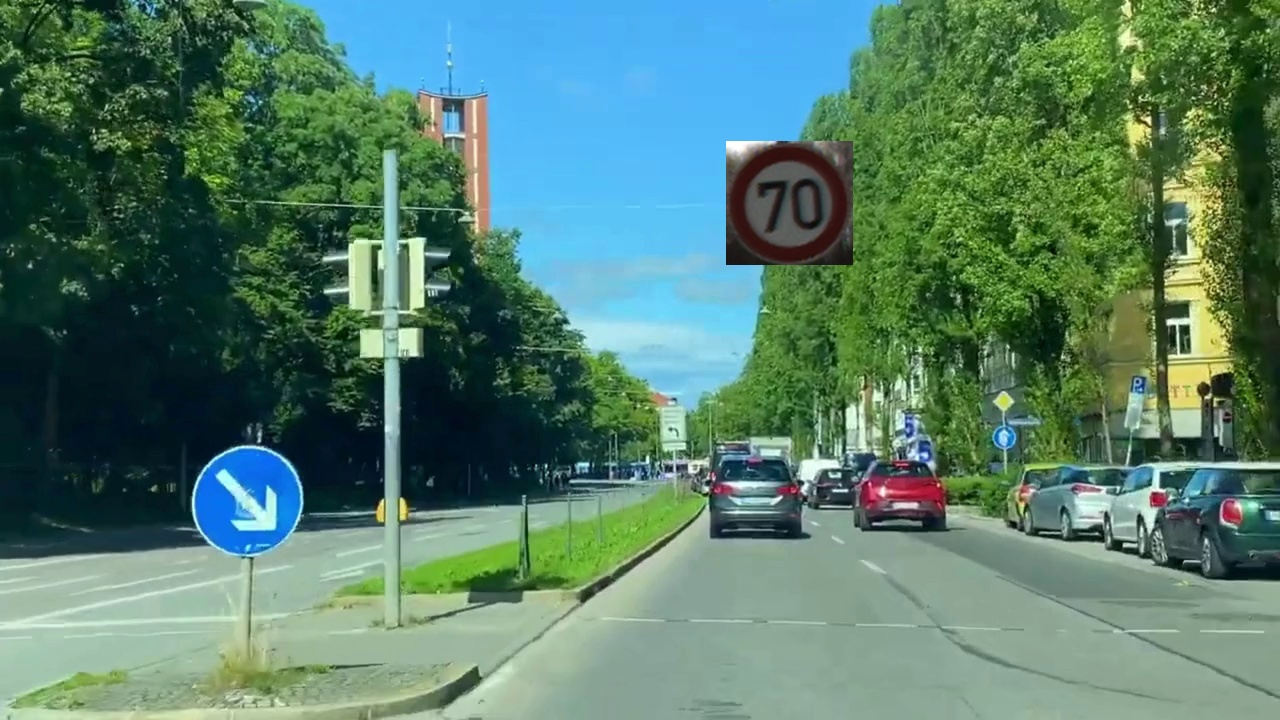Speed 70: (726, 141, 853, 265)
